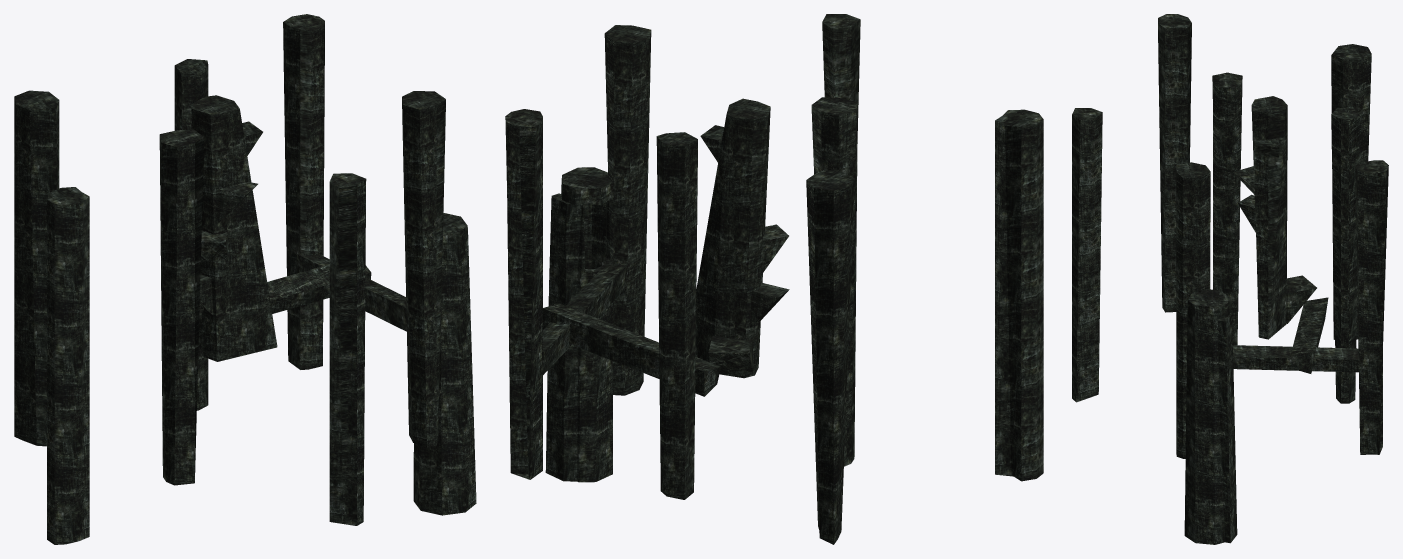
File: PD_arena.obj
3 renders of one model, left to right at view 1: azimuth 30°, elevation 25°; view 2: azimuth 150°, elevation 25°; view 3: azimuth 270°, elevation 25°, orthographic. The views are drawn at different scales.
Parts seen in each view (by area): view 1: PD_arena; view 2: PD_arena; view 3: PD_arena.
Part boxes in pixels (x1,y1,x2,y2): PD_arena: [14, 14, 476, 544]; PD_arena: [505, 14, 1043, 544]; PD_arena: [1072, 14, 1388, 544].
Bounding box in the file's own units: 710 × 640 × 525.
1 material, 1 textured.
